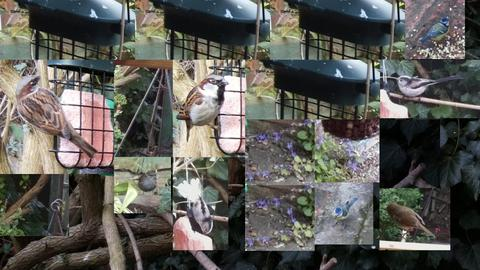blue tit: (332, 197, 358, 232), (420, 15, 450, 44)
long tailed tit: (395, 75, 465, 102), (193, 172, 213, 235)
robin: (384, 203, 435, 238)
sparrow: (15, 75, 99, 159), (176, 75, 230, 142), (132, 172, 156, 195)
